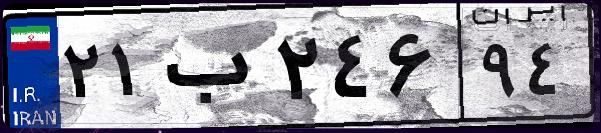1: (110, 28, 158, 98)
2: (270, 28, 330, 110), (57, 26, 110, 100)
4: (330, 28, 385, 110), (525, 38, 570, 115)
6: (385, 28, 445, 110)
9: (475, 38, 525, 113)
ب: (158, 20, 270, 120)
